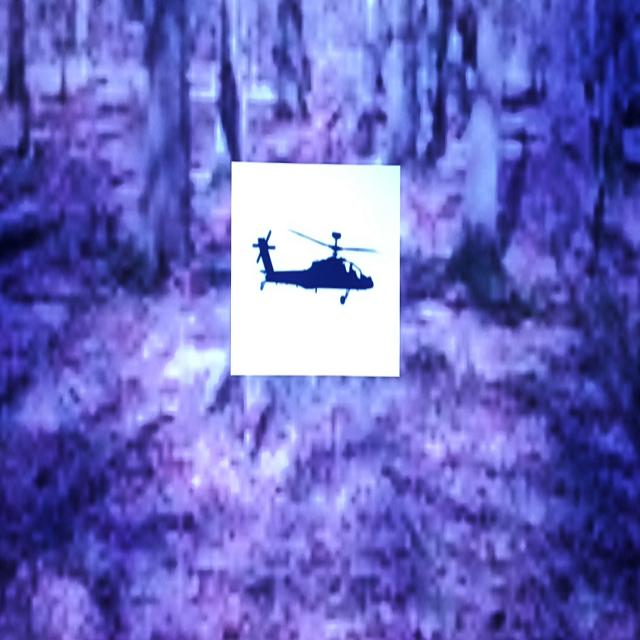Apache friendly: (253, 230, 376, 304)
